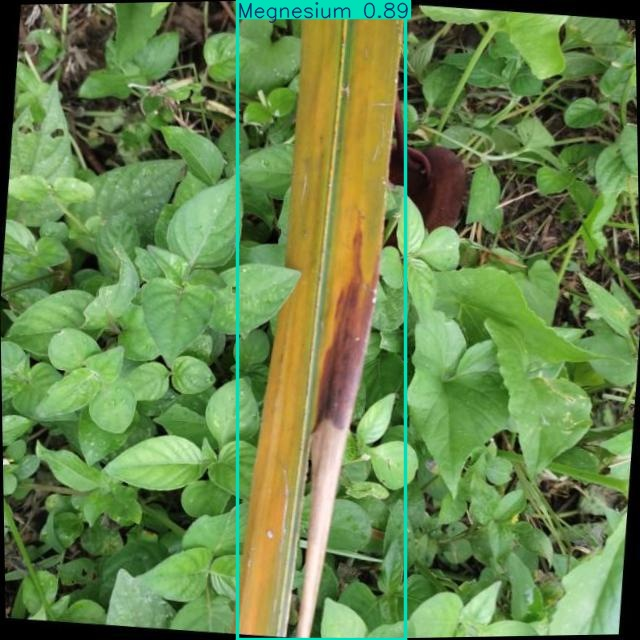Megnesium: (237, 0, 405, 640)
